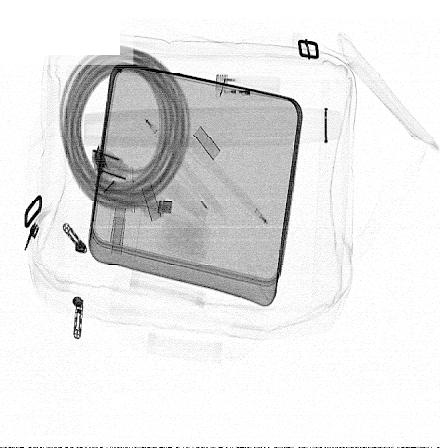Lighter: (216, 73, 280, 100)
